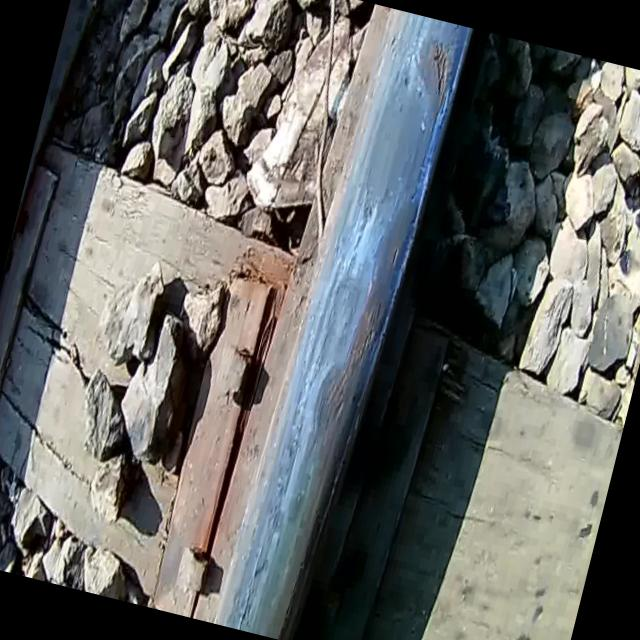Squats: (194, 0, 489, 640)
